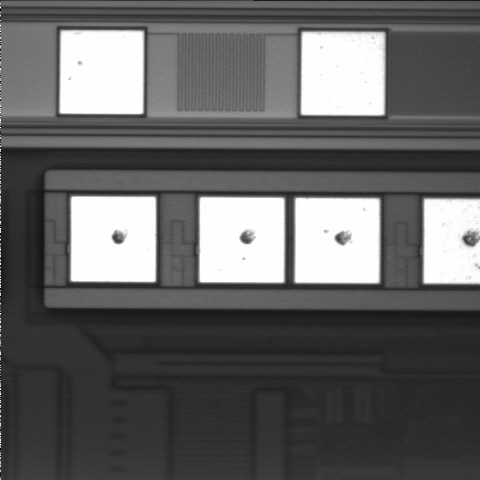pad: (71, 197, 156, 282), (295, 198, 380, 283), (200, 197, 284, 283), (301, 32, 385, 115), (60, 31, 143, 114)
